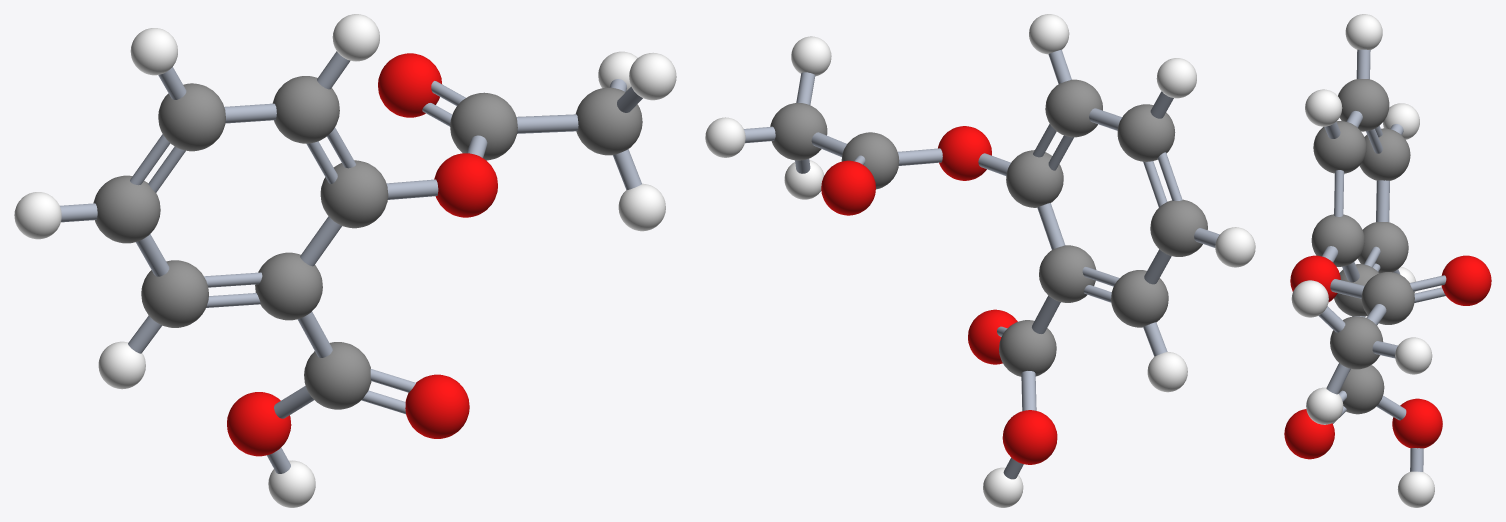
File: aspirin.glb
3 renders of one model, left to right at view 1: azimuth 30°, elevation 25°; view 2: azimuth 150°, elevation 25°; view 3: azimuth 270°, elevation 25°, orthographic. The views are drawn at different scales.
Parts seen in each view (by area): view 1: C (×9), H (×8), O (×4), bond (×5); view 2: C (×9), H (×8), O (×4), bond (×2); view 3: C (×9), H (×7), O (×4), bond (×13).
Boxes of the visible parts, <box> form: C (×9): <box>93,76,642,409</box>; H (×8): <box>14,14,676,507</box>; O (×4): <box>227,53,497,456</box>; bond (×5): <box>224,103,578,357</box>; C (×9): <box>770,79,1207,376</box>; H (×8): <box>705,14,1255,507</box>; O (×4): <box>821,126,1057,464</box>; bond (×2): <box>897,148,1064,249</box>; C (×9): <box>1311,79,1414,414</box>; H (×7): <box>1291,14,1434,507</box>; O (×4): <box>1284,255,1491,459</box>; bond (×13): <box>1318,49,1446,471</box>.
Bounding box in the file's own units: 0.22 × 0.18 × 0.0796.
